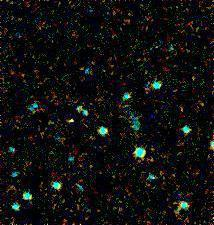star: (53, 110, 83, 140)
